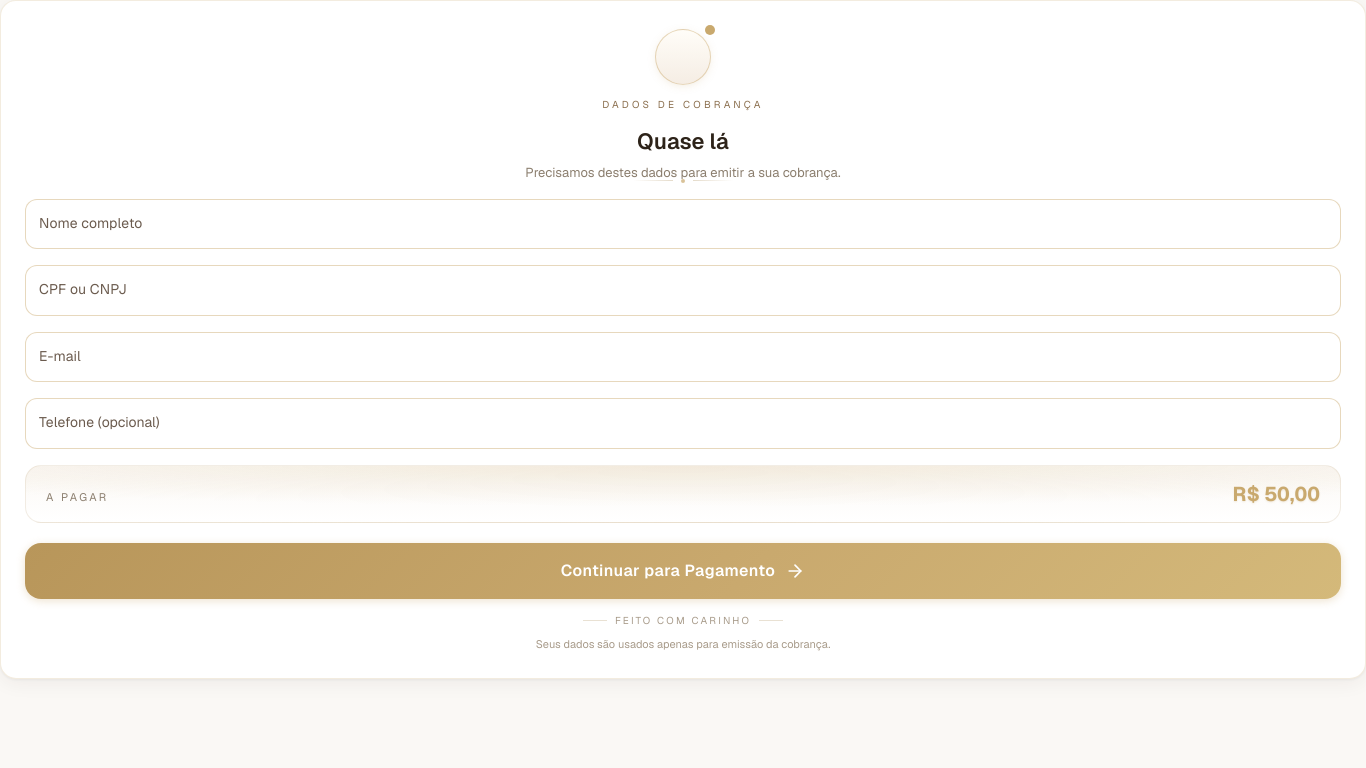
Test: PublicBillingForm › shows nome error and telefone error from local validation
Type "52998224725" into the field labelled "CPF ou CNPJ" at (683, 290), box x1=25 y1=265 x2=1341 y2=316
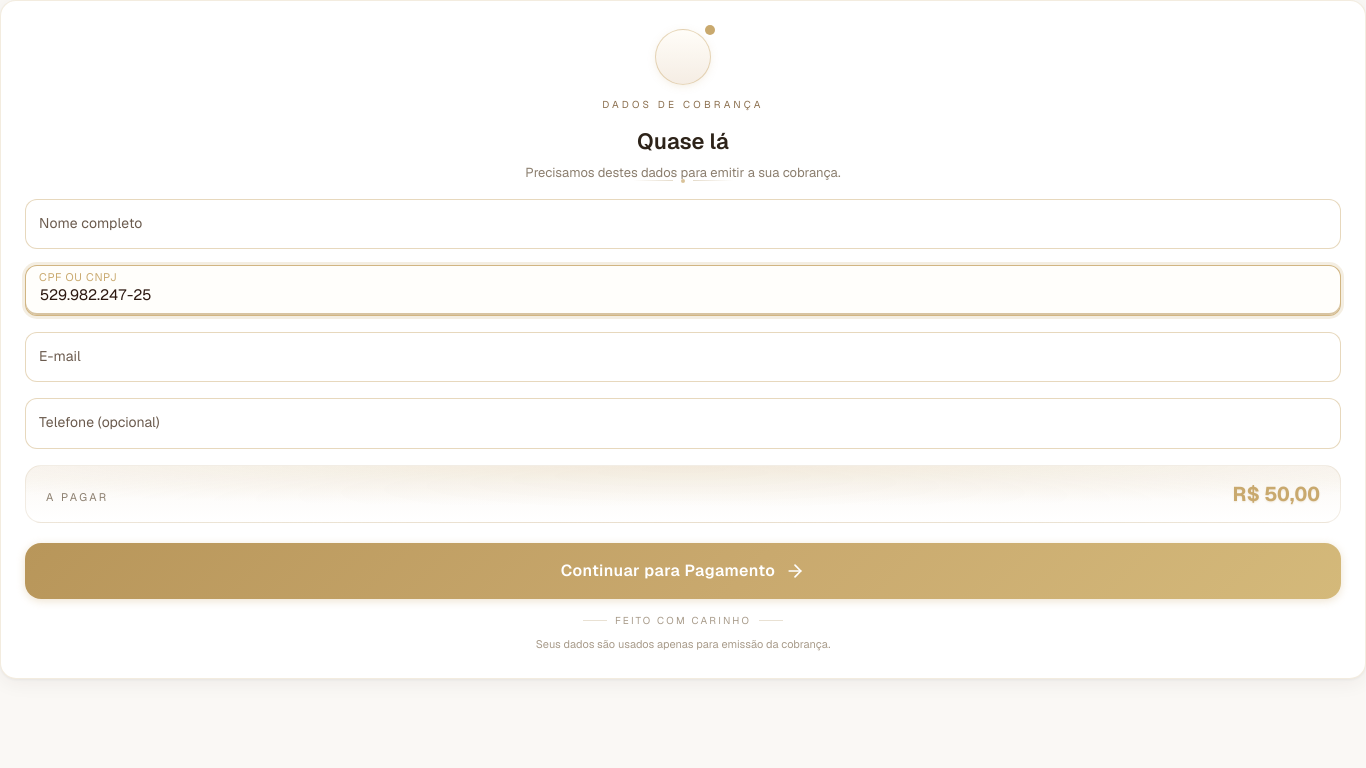
Type "maria@example.com" into the field labelled "E-mail" at (683, 357), box x1=25 y1=332 x2=1341 y2=382
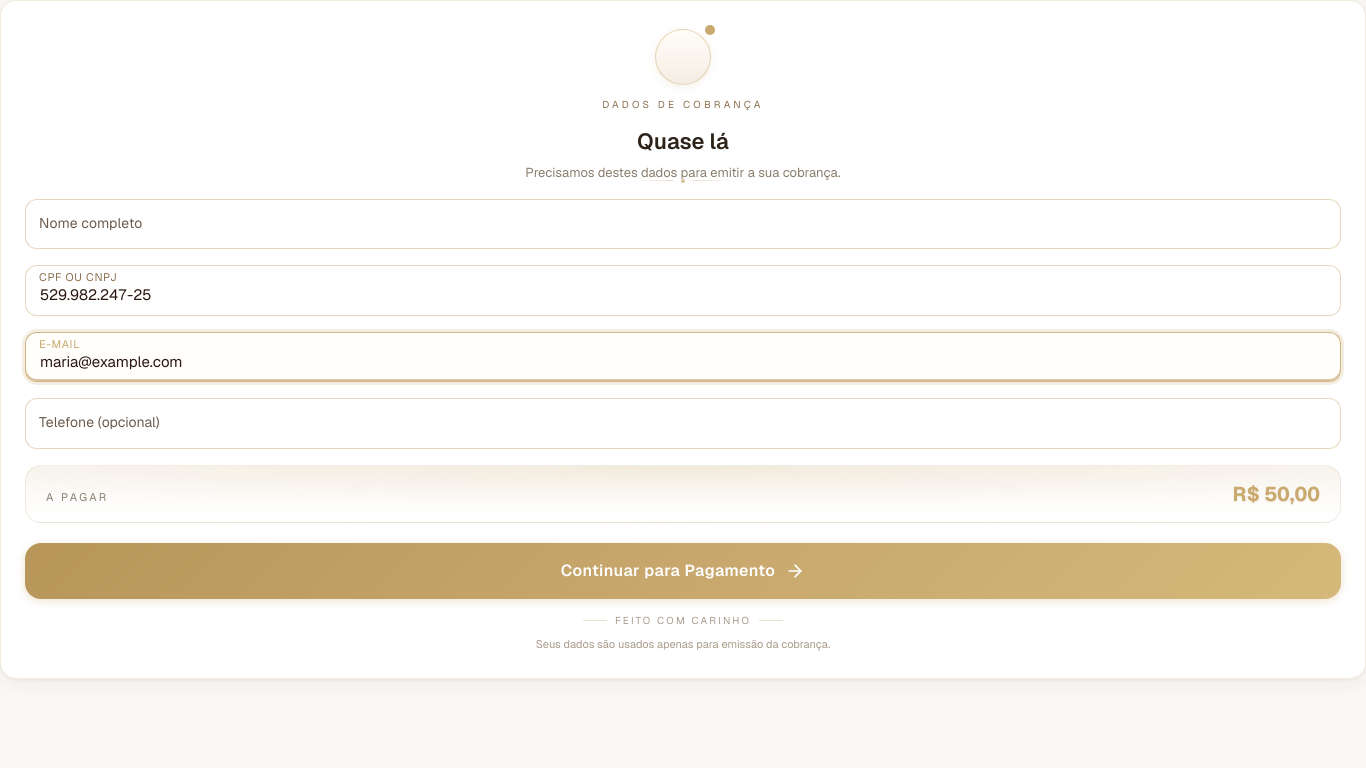
Type "123" into the field labelled "Telefone (opcional)" at (683, 423), box x1=25 y1=398 x2=1341 y2=449
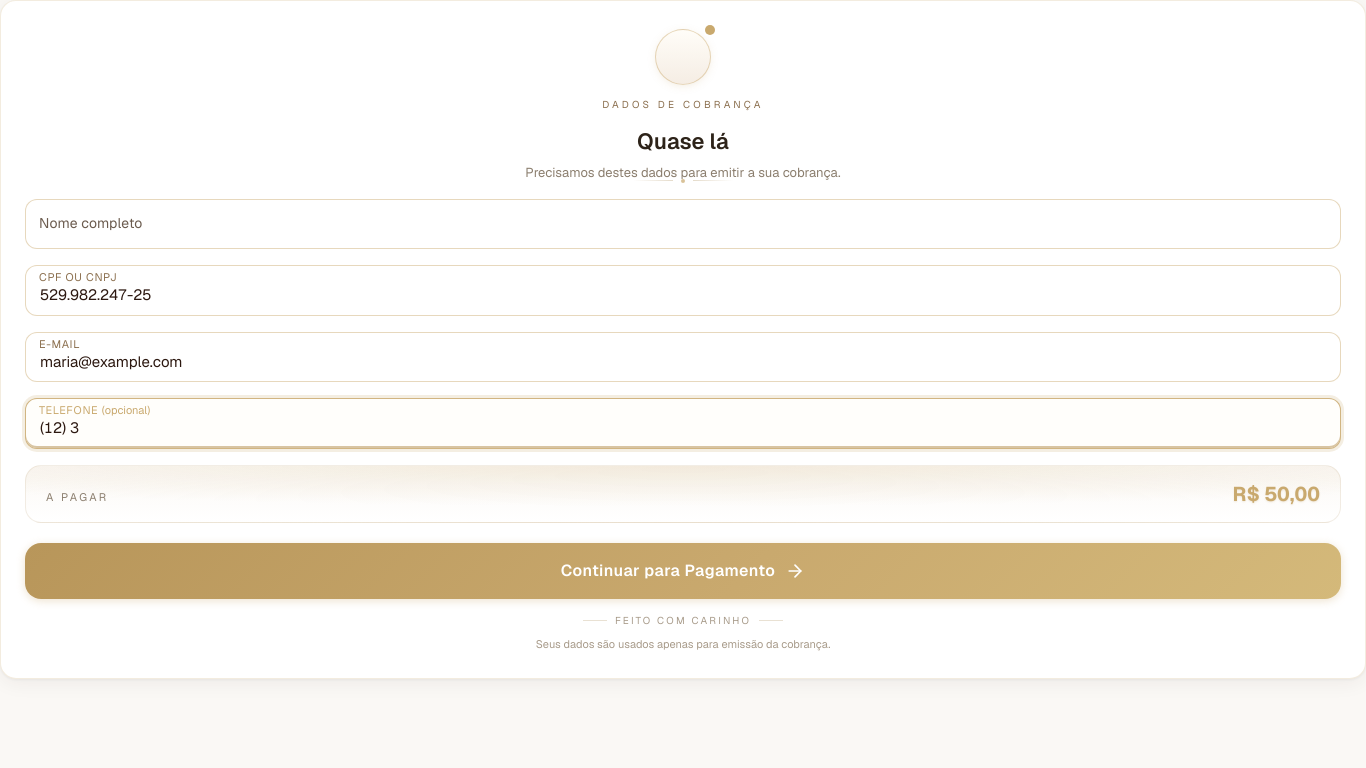
Click the button "Continuar para Pagamento" at (683, 571), box x1=25 y1=543 x2=1341 y2=599
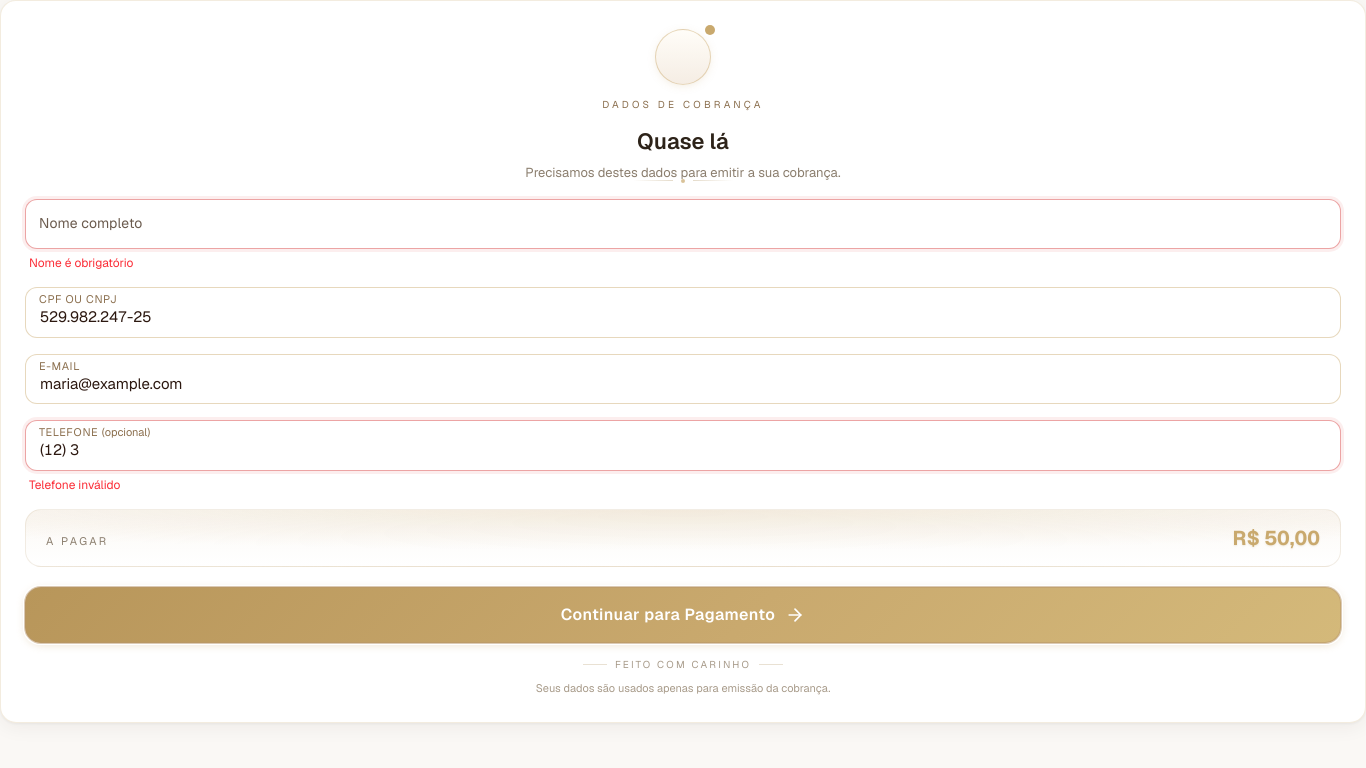
Now the text "Nome é obrigatório" is shown, box x1=29 y1=255 x2=134 y2=271
Now the text "Telefone inválido" is shown, box x1=29 y1=477 x2=120 y2=493
